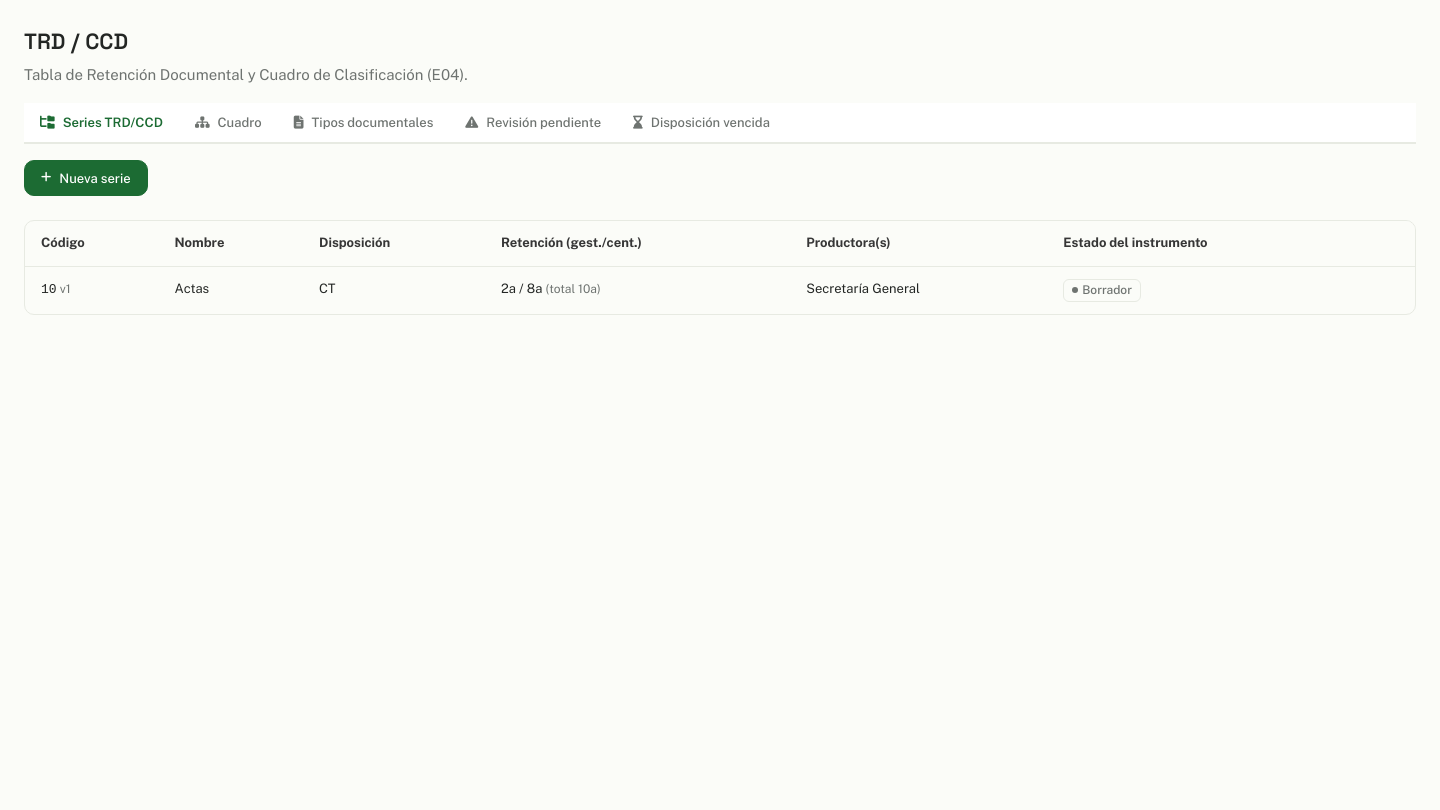
Test case: /admin/trd — tipo documental publicable (C-4) › nivel 1: Publicable deshabilitada y reactivar un tipo publicable inactivo, también
Click the tab "Tipos documentales": (364, 124) [278,103,449,144]
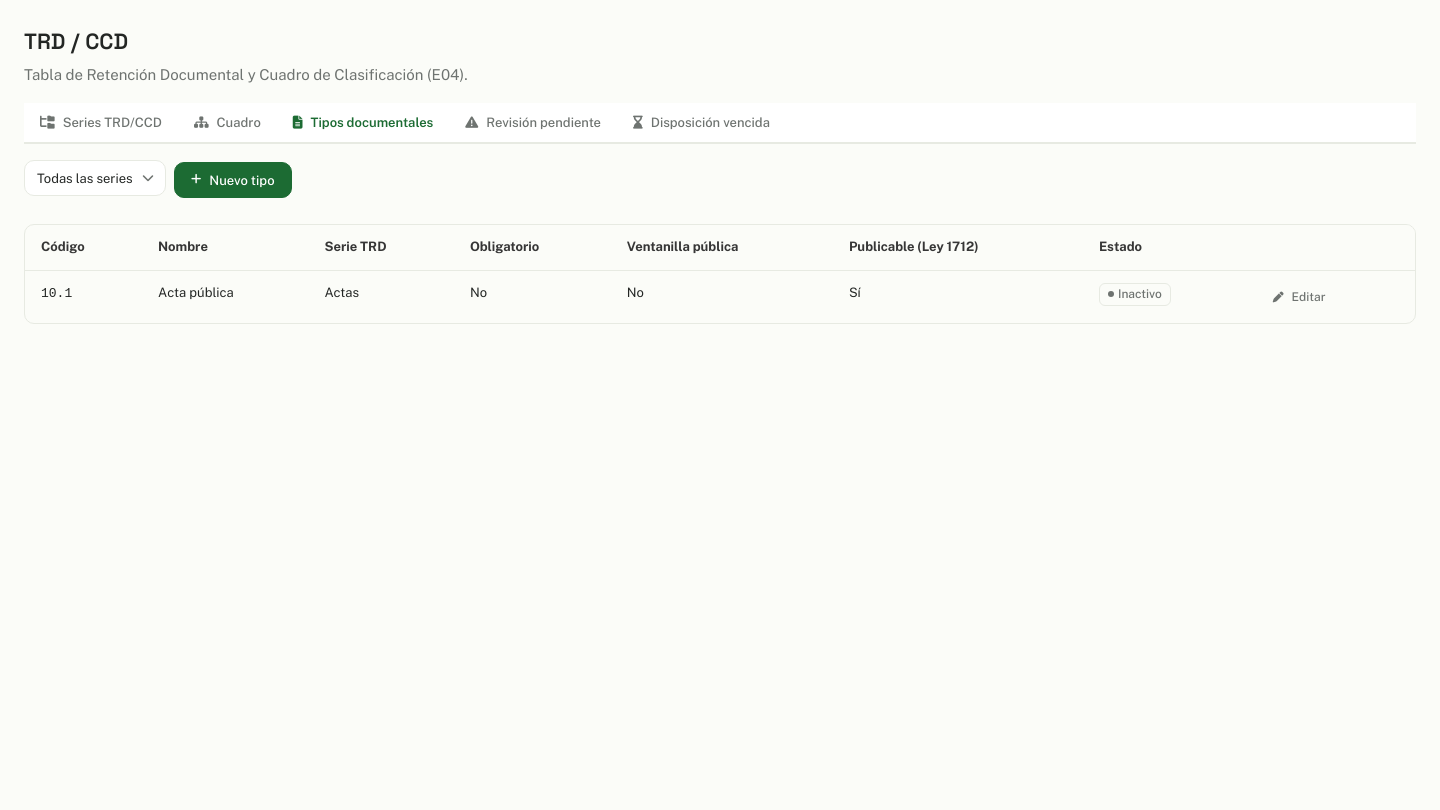
Click the button named "Editar" in the row of "10.1": (1299, 297) [1260,283,1338,311]
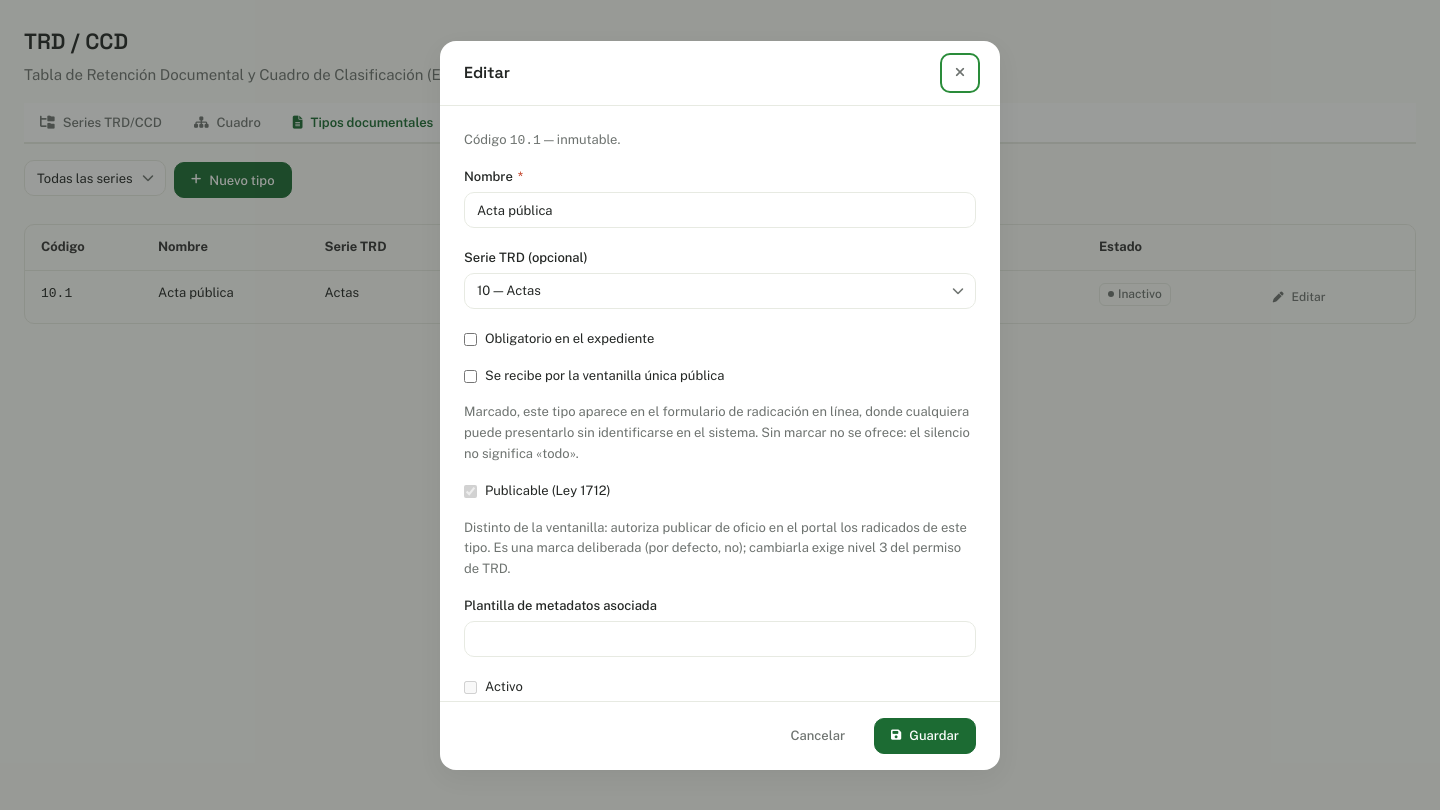
Expected: the checkbox labelled "Publicable (Ley 1712)" is disabled, [464,485,477,498]
Expected: the checkbox labelled "Activo" is disabled, [464,681,477,694]
